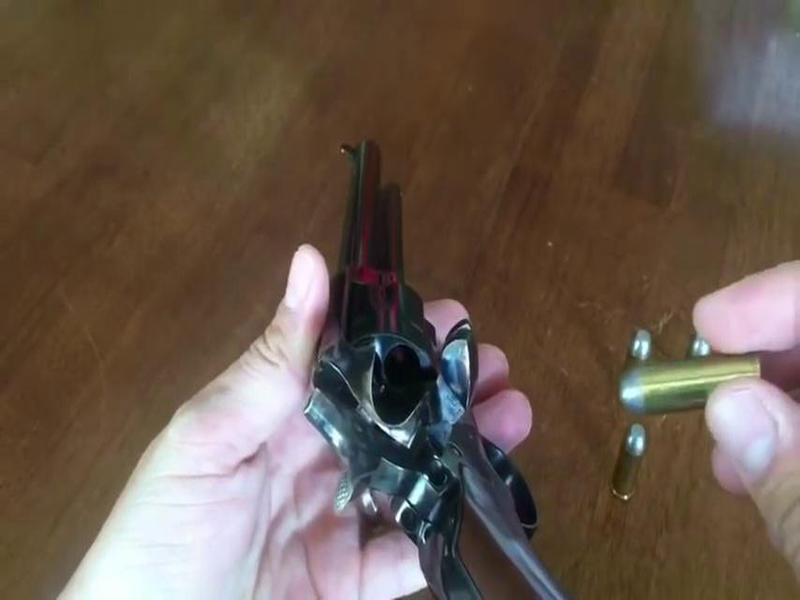Revolver: (262, 120, 523, 600)
